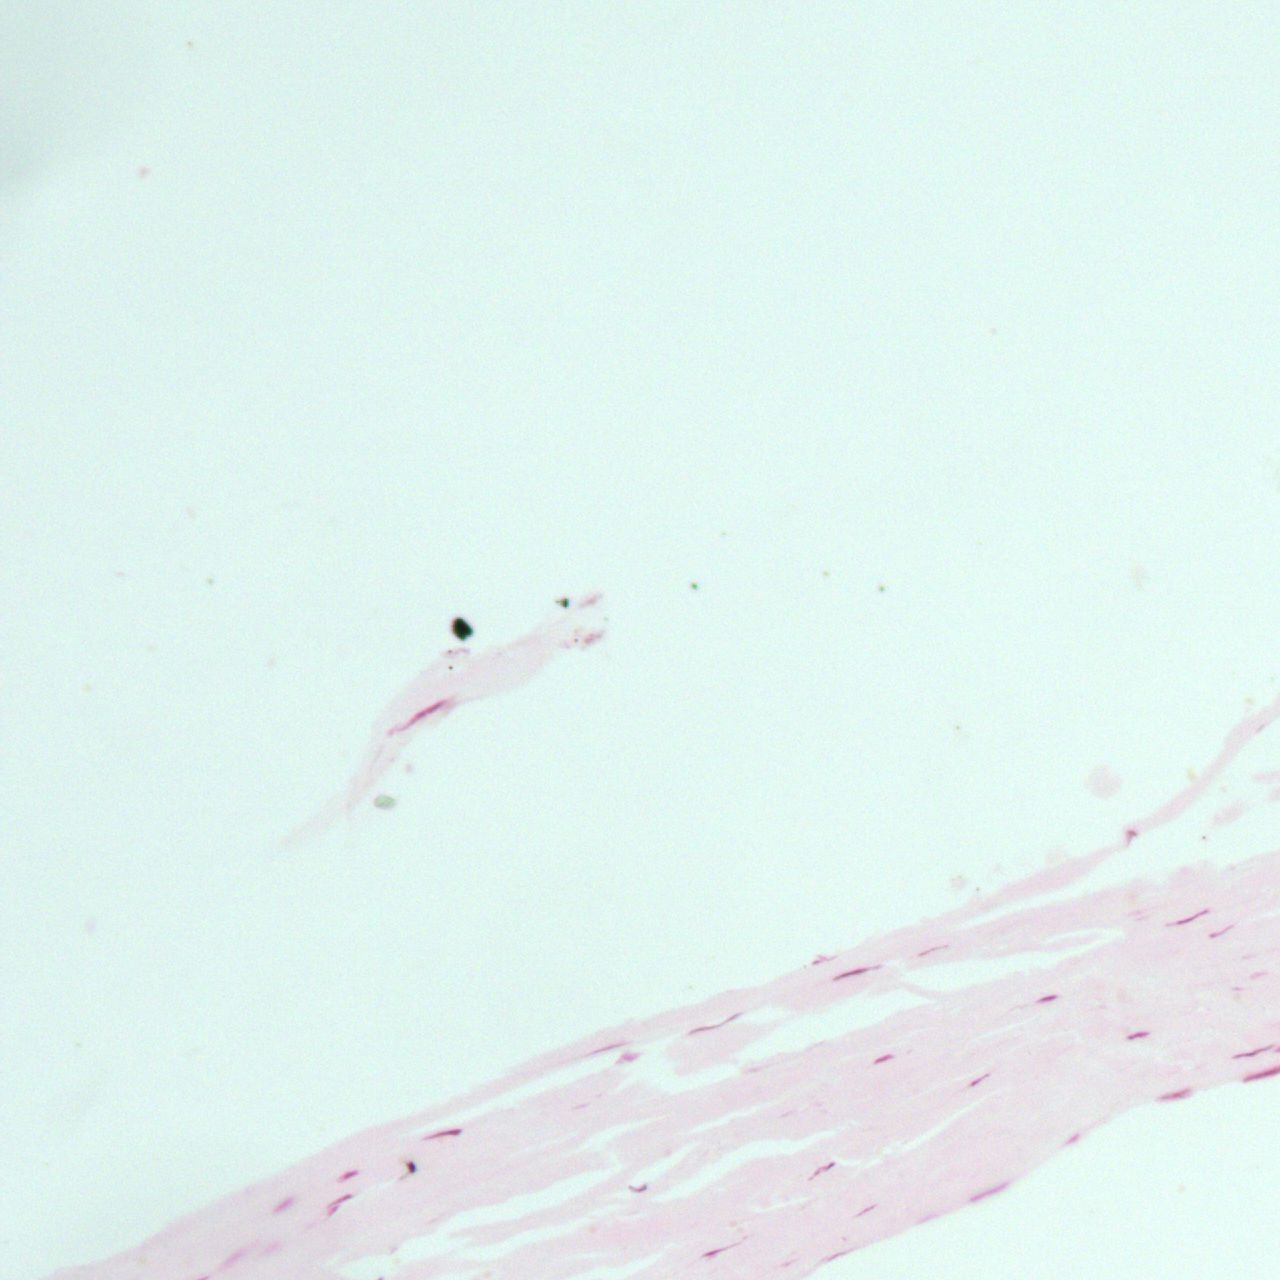dust: (451, 617, 472, 641), (375, 794, 397, 808), (554, 595, 571, 610), (406, 1162, 417, 1173), (692, 581, 702, 593), (573, 634, 581, 644), (447, 665, 454, 670), (447, 647, 452, 654)
nucleus-AC: (392, 697, 448, 735), (685, 1008, 748, 1037), (210, 1238, 256, 1276), (965, 1180, 1012, 1205), (699, 1235, 740, 1262), (1230, 1041, 1275, 1064), (416, 1124, 467, 1145), (1167, 907, 1214, 930), (829, 962, 877, 982), (1156, 1085, 1197, 1107), (268, 1192, 300, 1218), (804, 1157, 838, 1180), (964, 1069, 996, 1092), (324, 1189, 353, 1211), (1206, 921, 1237, 941), (588, 1040, 624, 1056), (915, 942, 952, 958), (334, 1166, 361, 1186), (852, 1200, 881, 1218), (870, 1050, 897, 1068), (613, 1050, 641, 1064), (627, 1183, 651, 1196), (1126, 1030, 1151, 1042), (1039, 993, 1058, 1005), (1062, 1133, 1081, 1145), (1125, 829, 1138, 845)
